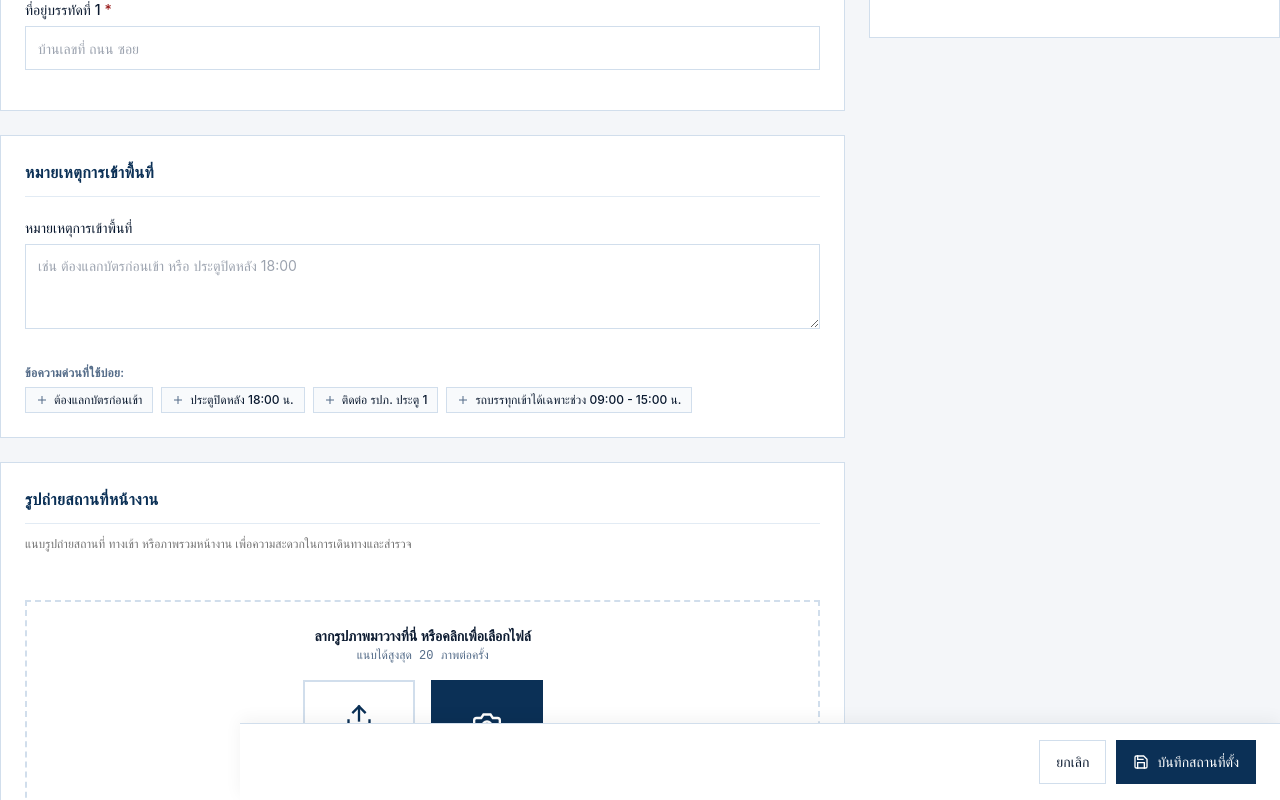
Test: SiteEditor › appends access note when clicking quick template chips
The image size is (1280, 800).
(page scrolled)
expect the text box labelled "หมายเหตุการเข้าพื้นที่" is empty: met, box [25,244,820,329]
Click the button "ต้องแลกบัตรก่อนเข้า" at (89, 400), box [25,387,153,413]
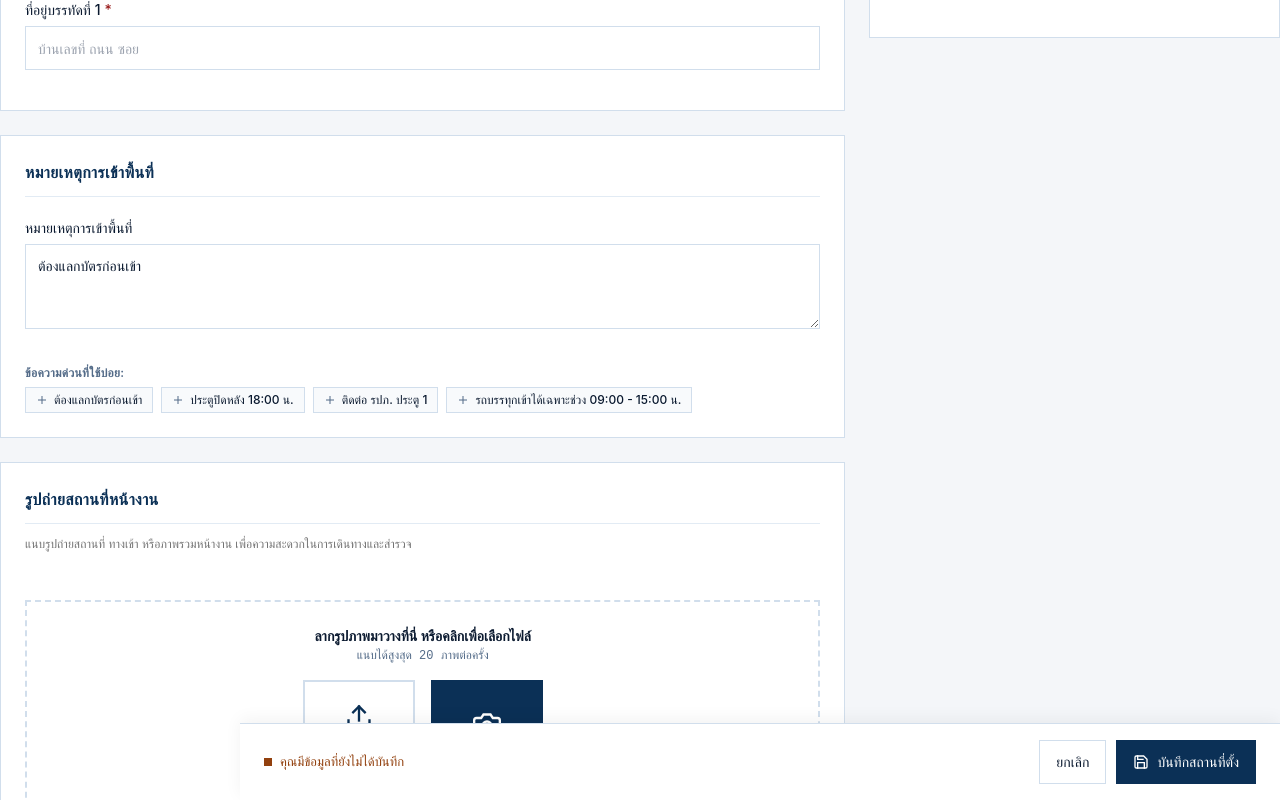
expect the text box labelled "หมายเหตุการเข้าพื้นที่" holds "ต้องแลกบัตรก่อนเข้า": met, box [25,244,820,329]
Click the button "ประตูปิดหลัง 18:00 น." at (233, 400), box [161,387,305,413]
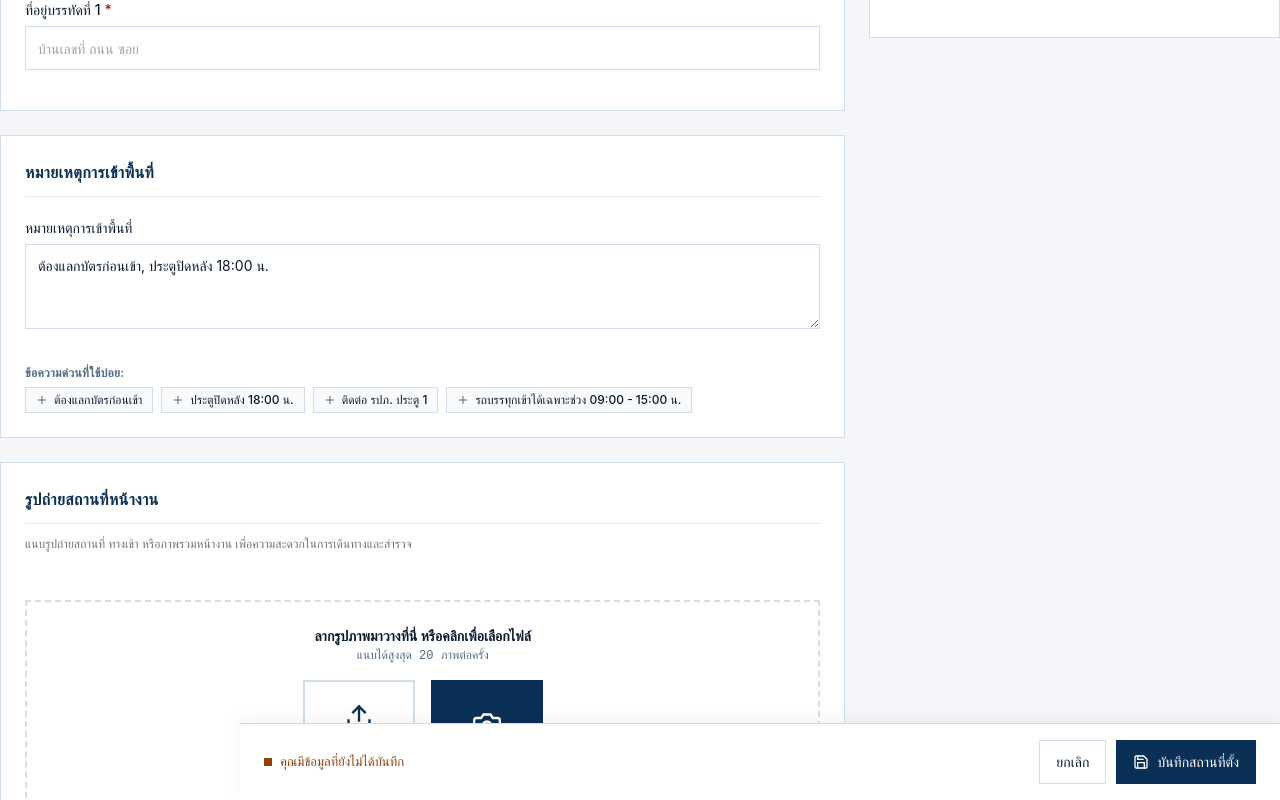
expect the text box labelled "หมายเหตุการเข้าพื้นที่" holds "ต้องแลกบัตรก่อนเข้า, ประตูปิดหลัง 18:00 น.": met, box [25,244,820,329]
